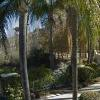Palm tree: (50, 0, 99, 71)
